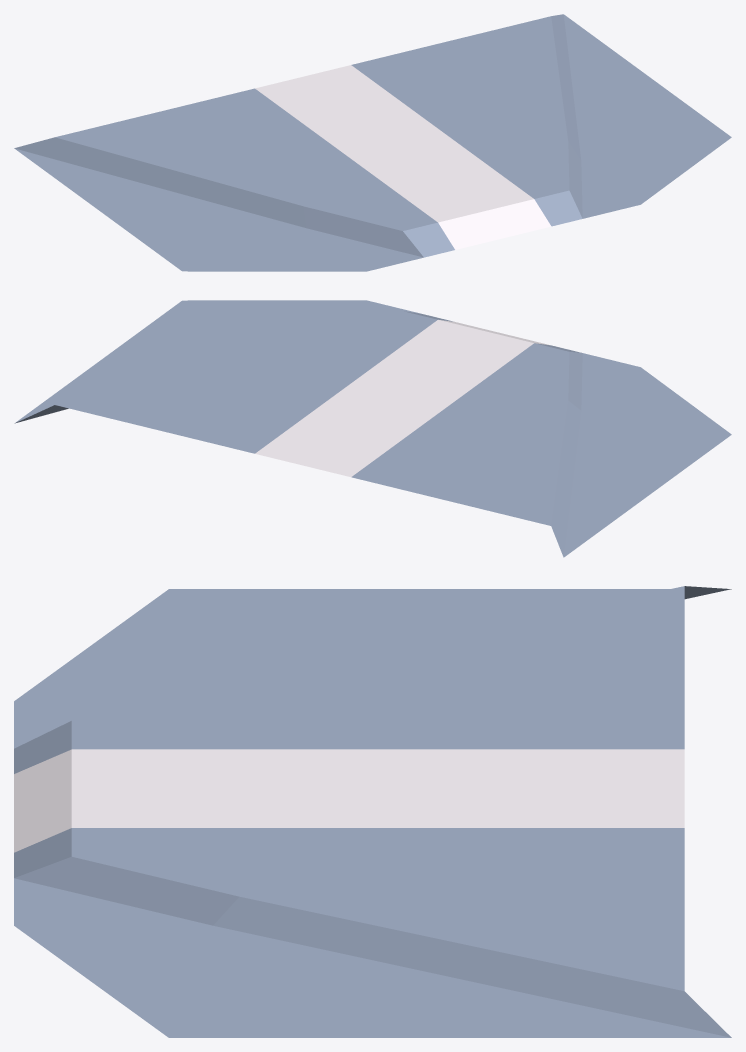
File: car3Engine1.fbx
3 views of the same model, one above another, from view 1: azimuth 30°, elevation 25°; view 2: azimuth 150°, elevation 25°; view 3: azimuth 270°, elevation 25° (orthographic). The views are drawn at different scales.
Parts seen in each view (by area): view 1: engine1; view 2: engine1; view 3: engine1.
Part boxes in pixels (x1,y1,x2,y2): engine1: (14, 14, 731, 271); engine1: (14, 300, 731, 557); engine1: (14, 586, 731, 1037).
Size of the model in its own units: 2.2 by 0.0568 by 1.49.
